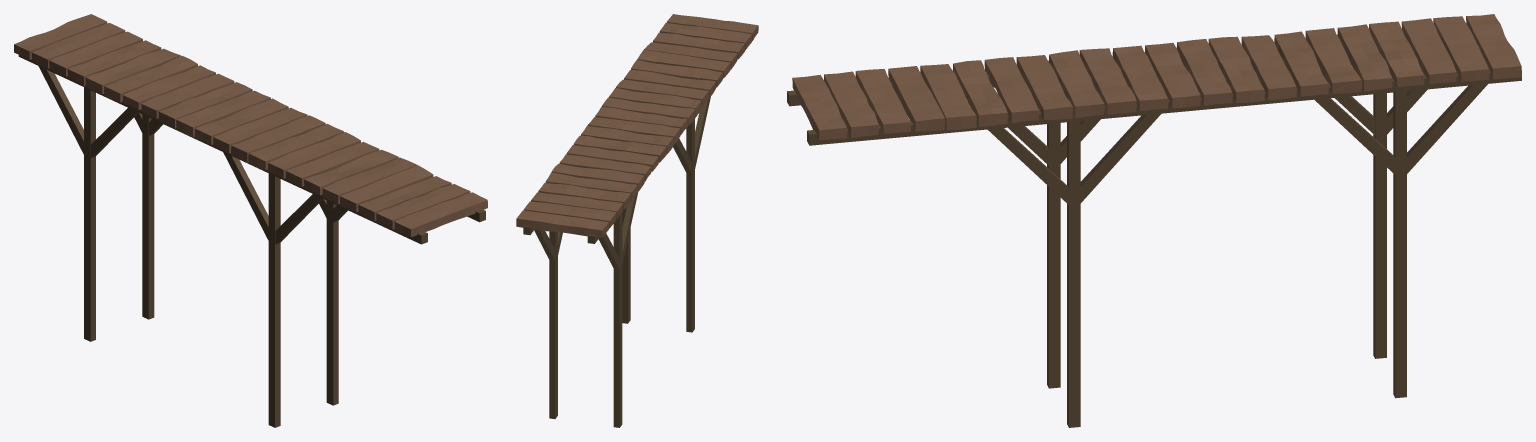
The model's file is bridge_small.glb.
3 renders of one model, left to right at view 1: azimuth 30°, elevation 25°; view 2: azimuth 150°, elevation 25°; view 3: azimuth 270°, elevation 25°, orthographic. The views are drawn at different scales.
Parts seen in each view (by area): view 1: Cube.117, Cube.118; view 2: Cube.117, Cube.118; view 3: Cube.117, Cube.118.
Boxes of the visible parts, x1,y1,x2,y2 form: Cube.117: (14,14,487,237); Cube.118: (18,55,485,427); Cube.117: (516,14,758,237); Cube.118: (523,97,710,427); Cube.117: (792,14,1521,140); Cube.118: (787,58,1521,427).
Size of the model in its own units: 0.2861 by 0.3756 by 0.7643.
1 material, 1 textured.
